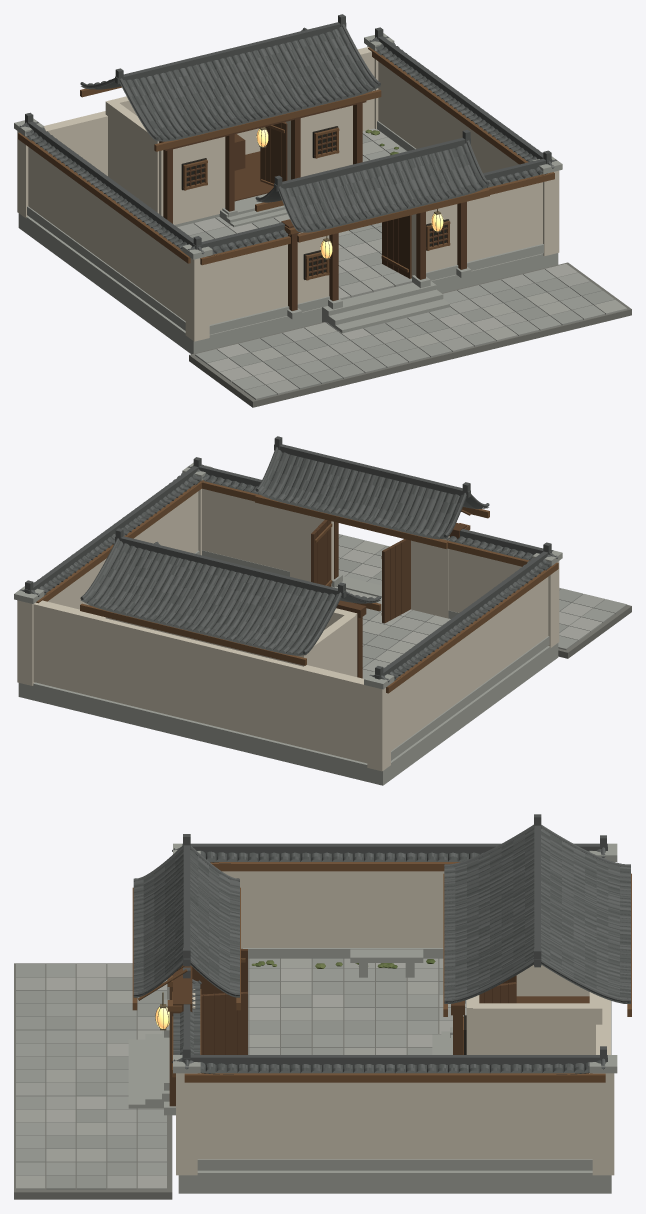
File: temple-gate.glb
3 renders of one model, top to bottom at view 1: azimuth 30°, elevation 25°; view 2: azimuth 150°, elevation 25°; view 3: azimuth 270°, elevation 25°, orthographic. The views are drawn at different scales.
Parts seen in each view (by area): view 1: rear hall individual clay tiles, side wall plaster -1, gate pavilion individual clay tiles, courtyard platform, side wall plaster 1, front wing plaster -1, front wing plaster 1, front approach grout, hall side wall -1, hall front panel -1, rear boundary wall, hall front panel 1 (+36 smaller); view 2: rear boundary wall, rear hall individual clay tiles, courtyard platform, side wall plaster -1, gate pavilion individual clay tiles, front wing plaster 1, side wall plaster 1, gate side panel -1, front wing plaster -1, rear hall roof shell, hall side wall -1, corner wall pier.001 (+23 smaller); view 3: side wall plaster 1, rear hall individual clay tiles, side wall plaster -1, gate pavilion individual clay tiles, courtyard platform, hall side wall 1, side stone base 1, front approach grout, side wall cap 1 eave fascia -1, side wall cap 1 ridge beam, side wall cap -1 ridge beam, side wall cap 1 individual clay tiles (+23 smaller).
Boxes of the visible parts, x1,y1,x2,y2 form: rear hall individual clay tiles: (85, 26, 377, 140); side wall plaster -1: (28, 147, 185, 320); gate pavilion individual clay tiles: (282, 143, 486, 231); courtyard platform: (18, 213, 558, 354); side wall plaster 1: (378, 61, 518, 173); front wing plaster -1: (209, 244, 287, 324); front wing plaster 1: (455, 182, 542, 264); front approach grout: (189, 262, 631, 407); hall side wall -1: (106, 100, 158, 213); hall front panel -1: (159, 136, 225, 224); rear boundary wall: (44, 47, 374, 175); hall front panel 1: (286, 105, 352, 180); rear boundary wall: (33, 600, 367, 763); rear hall individual clay tiles: (84, 540, 377, 654); courtyard platform: (18, 586, 558, 785); side wall plaster -1: (391, 577, 548, 750); gate pavilion individual clay tiles: (258, 450, 462, 537); front wing plaster 1: (202, 488, 289, 571); side wall plaster 1: (48, 491, 198, 609); gate side panel -1: (411, 536, 449, 618); front wing plaster -1: (449, 549, 521, 612); rear hall roof shell: (80, 545, 380, 655); hall side wall -1: (298, 615, 355, 676); corner wall pier.001: (367, 685, 390, 771); side wall plaster 1: (197, 1073, 592, 1159); rear hall individual clay tiles: (444, 828, 630, 1002); side wall plaster -1: (222, 871, 444, 947); gate pavilion individual clay tiles: (133, 849, 239, 995); courtyard platform: (178, 1001, 611, 1193); hall side wall 1: (473, 1003, 602, 1054); side stone base 1: (197, 1159, 592, 1170); front approach grout: (14, 963, 172, 1199); side wall cap 1 eave fascia -1: (184, 1073, 605, 1082); side wall cap 1 ridge beam: (182, 1055, 607, 1064); side wall cap -1 ridge beam: (182, 843, 607, 853); side wall cap 1 individual clay tiles: (188, 1060, 602, 1073).
Bounding box in the file's own units: 13 × 5.36 × 14.84.
